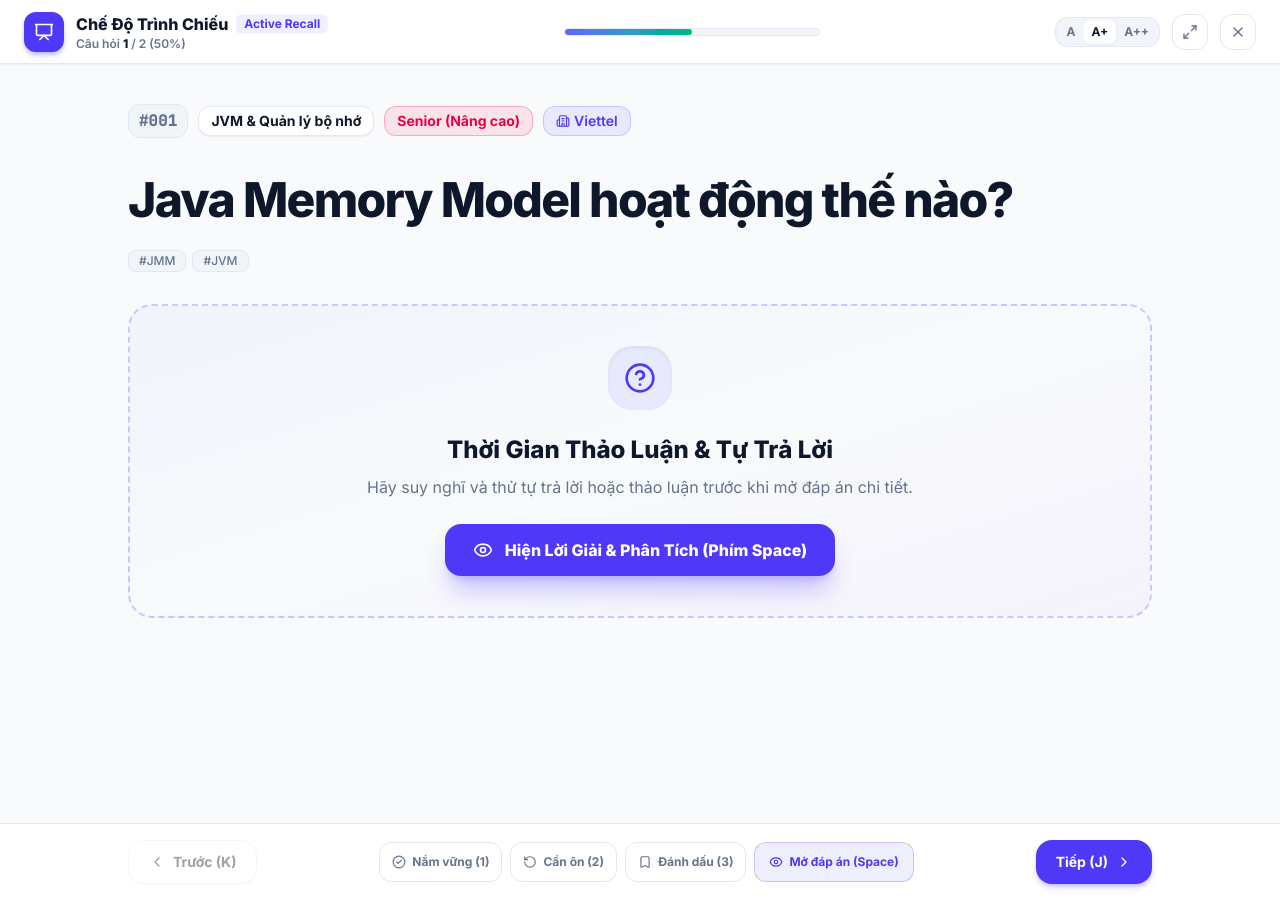
Test case: InterviewPresentationModal Component › reveals answer and takeaways on button click
The image size is (1280, 900).
Click the button "Hiện Lời Giải & Phân Tích (Phím Space)" at {"x": 640, "y": 550}, box [445, 524, 835, 576]
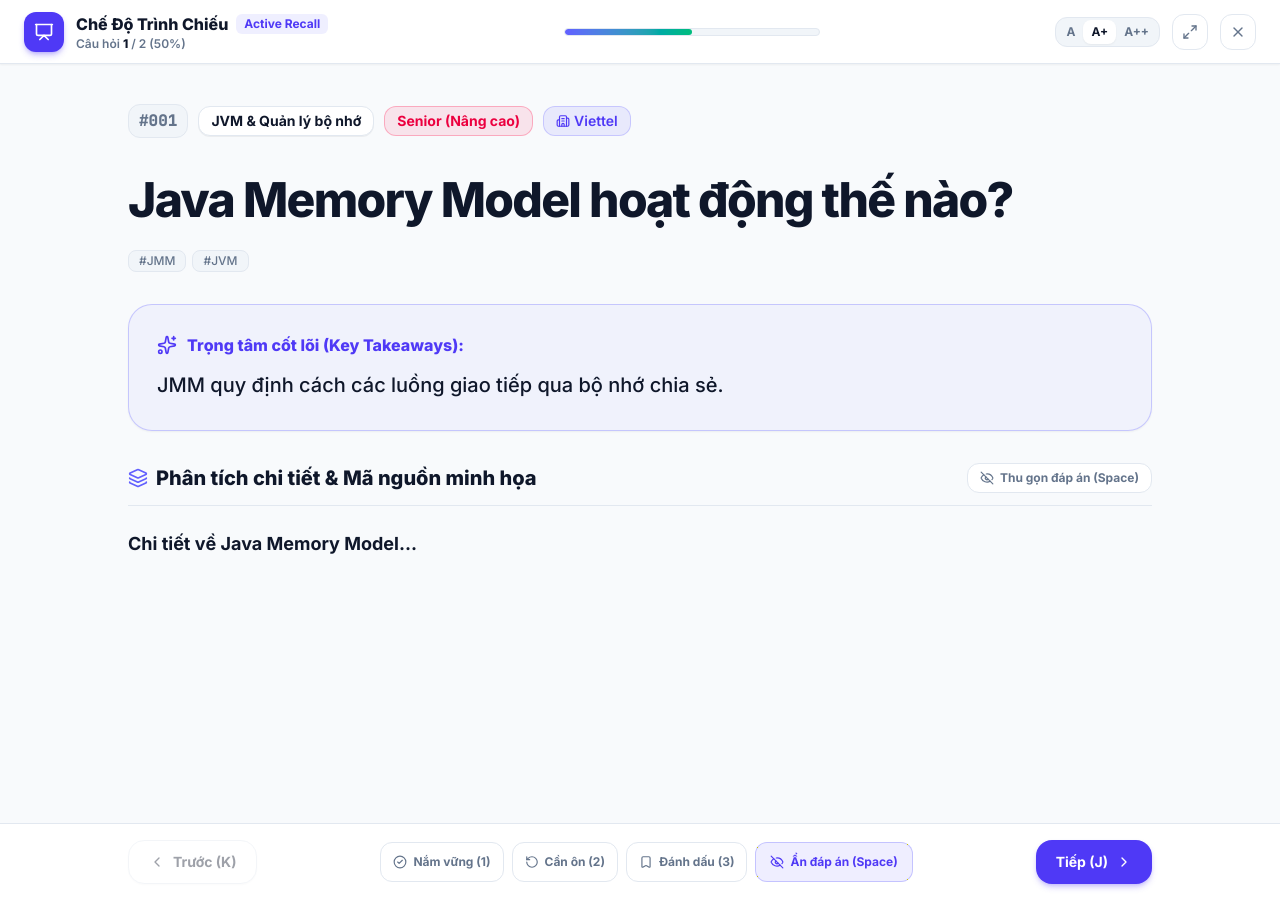
Check: the text "JMM quy định cách các luồng giao tiếp qua bộ nhớ chia sẻ." is shown, box [157, 373, 724, 397]
Check: the text "Trọng tâm cốt lõi (Key Takeaways):" is shown, box [187, 333, 464, 357]
